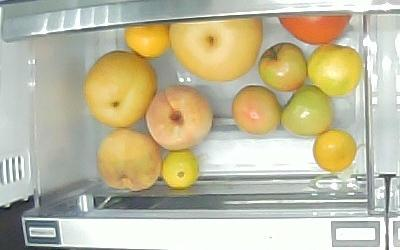peach: (145, 86, 213, 151), (96, 127, 162, 193)
pear: (169, 16, 263, 82), (84, 50, 156, 127)
tangerine: (310, 43, 360, 97), (313, 128, 356, 174), (124, 22, 170, 58), (161, 150, 198, 188)
tomato: (281, 85, 332, 137), (259, 42, 307, 93), (232, 86, 281, 135), (277, 14, 353, 45)
